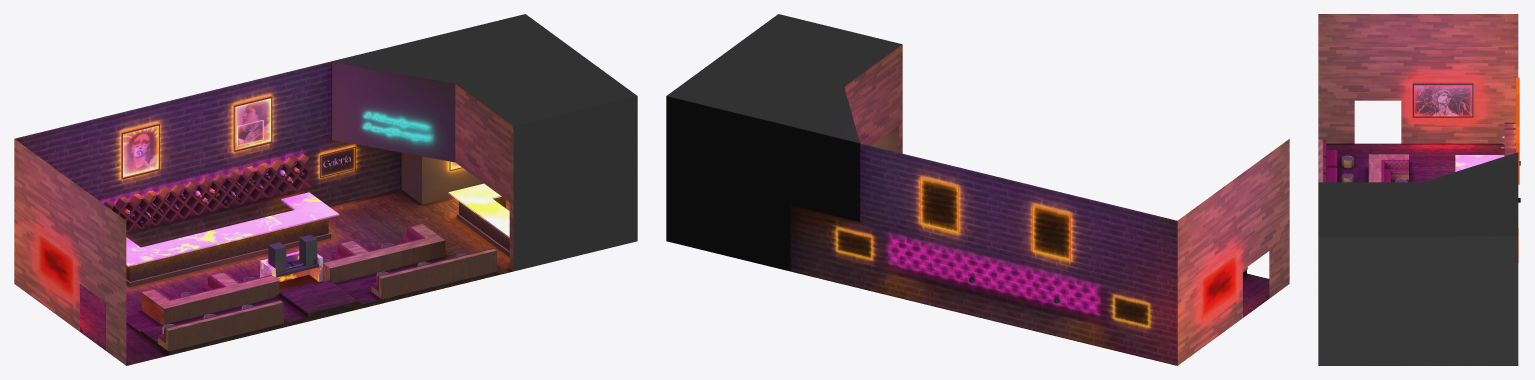
The model's file is 3DMAP_GALERIA.glb.
3 views of the same model, side by side, from view 1: azimuth 30°, elevation 25°; view 2: azimuth 150°, elevation 25°; view 3: azimuth 270°, elevation 25° (orthographic). The views are drawn at different scales.
Visible parts, largest first — view 1: Main_Baked, Cube.002_Baked, Cylinder.004_Baked, speakers_Baked; view 2: Main_Baked; view 3: Main_Baked, Cube.002_Baked, Cylinder.004_Baked.
Part boxes in pixels (x1,y1,x2,y2): Main_Baked: (14, 14, 637, 365); Cube.002_Baked: (141, 224, 445, 325); Cylinder.004_Baked: (157, 248, 496, 351); speakers_Baked: (268, 234, 317, 273); Main_Baked: (666, 14, 1289, 365); Main_Baked: (1318, 14, 1520, 365); Cube.002_Baked: (1368, 154, 1408, 182); Cylinder.004_Baked: (1318, 139, 1353, 182).
Size of the model in its own units: 89.32 by 24.25 by 34.33.
6 materials, 3 textured.
